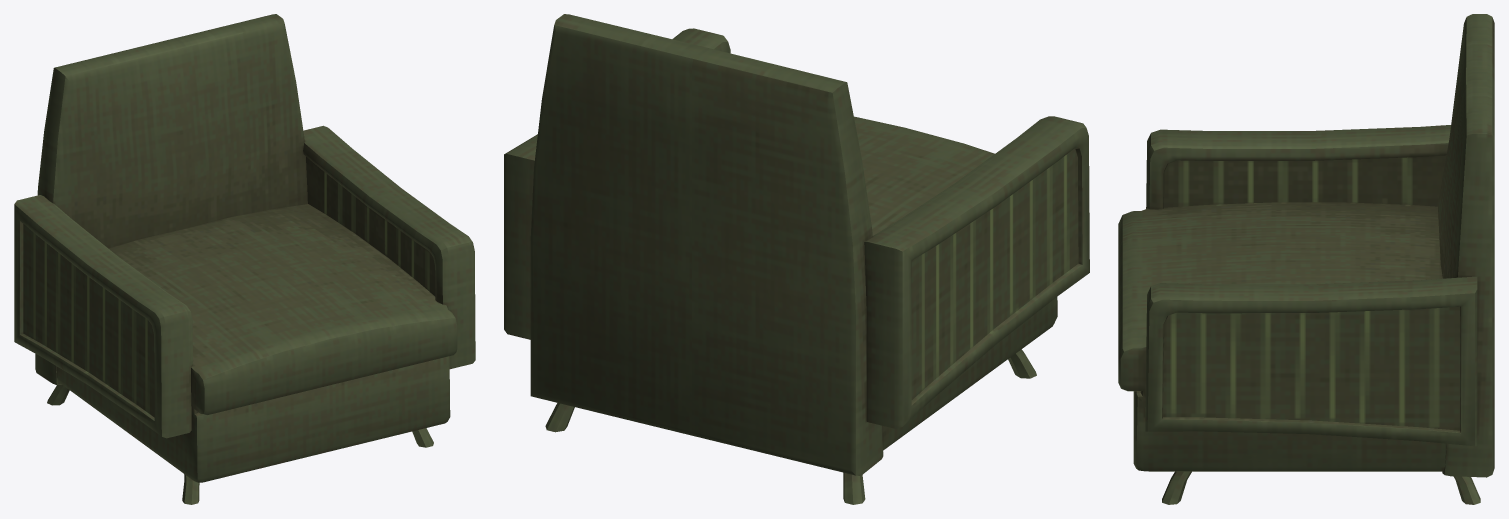
File: PROP_GreenArmChair_A_v01.fbx
The picture shows the model from 3 angles, left to right: view 1: azimuth 30°, elevation 25°; view 2: azimuth 150°, elevation 25°; view 3: azimuth 270°, elevation 25°; orthographic projection. The views are drawn at different scales.
Visible parts, largest first — view 1: Cube.001; view 2: Cube.001; view 3: Cube.001.
Boxes of the visible parts, x1,y1,x2,y2 form: Cube.001: (14,14,475,504); Cube.001: (504,14,1089,504); Cube.001: (1118,14,1494,504).
Size of the model in its own units: 0.8136 by 0.8035 by 0.7541.
